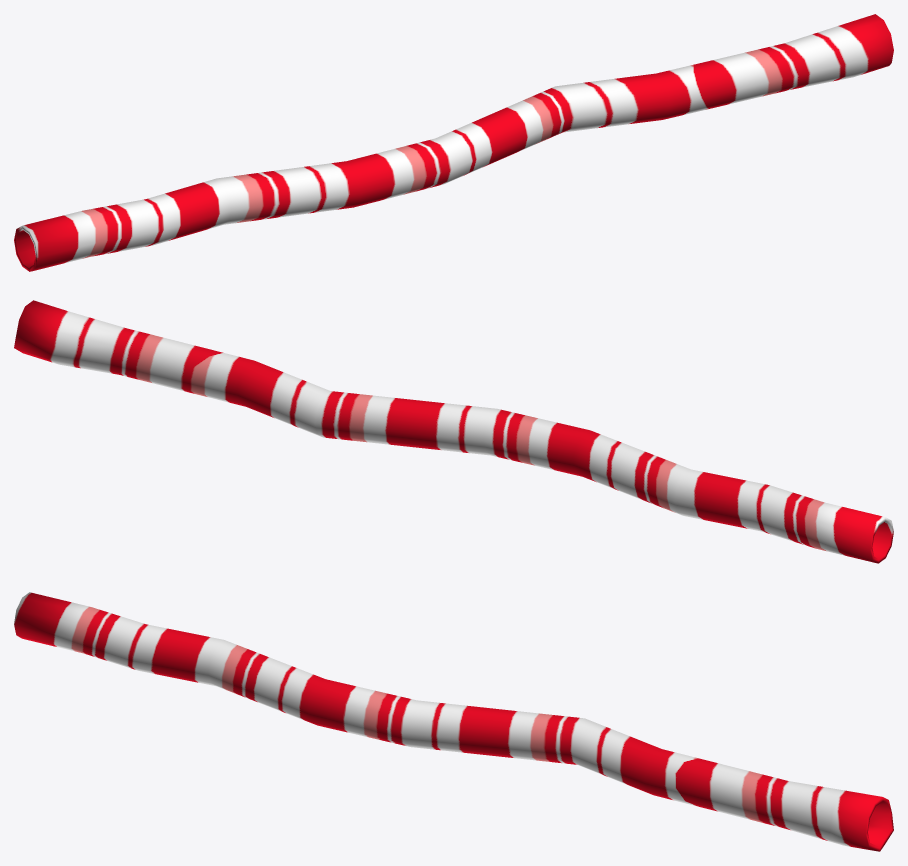
File: CandyTwistTunnel5.fbx
3 views of the same model, one above another, from view 1: azimuth 30°, elevation 25°; view 2: azimuth 150°, elevation 25°; view 3: azimuth 330°, elevation 25° (orthographic).
Parts seen in each view (by area): view 1: Cylinder.009; view 2: Cylinder.009; view 3: Cylinder.009.
Boxes of the visible parts, box(x1,y1,x2,y2) form: Cylinder.009: box(14, 14, 893, 271); Cylinder.009: box(14, 300, 893, 563); Cylinder.009: box(14, 592, 893, 851).
Size of the model in its own units: 2041 by 113 by 199.
